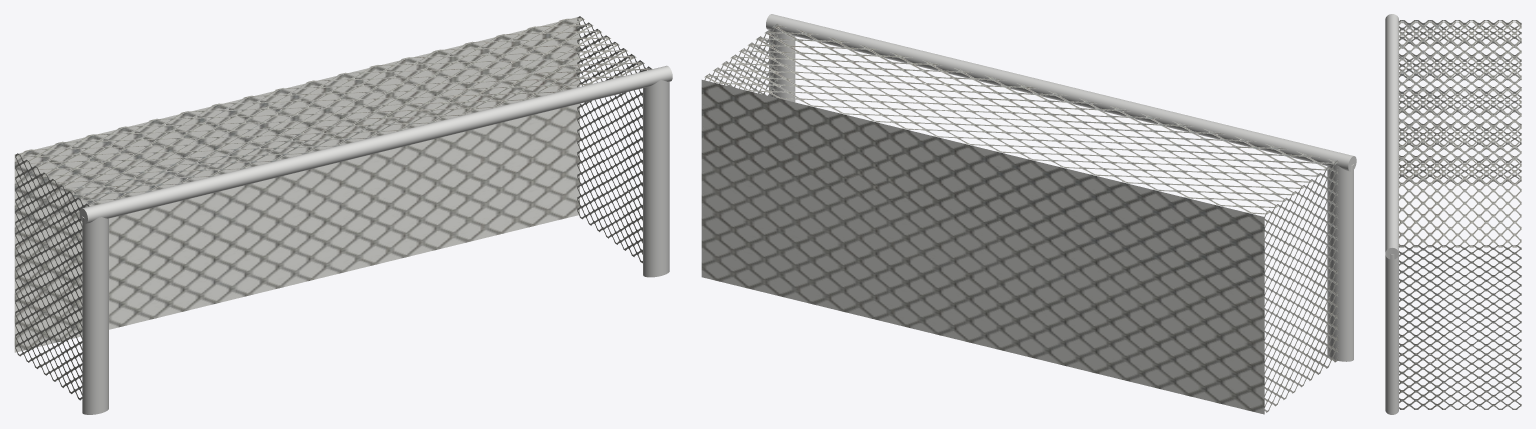
File: sf_soccer_goal.glb
3 views of the same model, side by side, from view 1: azimuth 30°, elevation 25°; view 2: azimuth 150°, elevation 25°; view 3: azimuth 270°, elevation 25° (orthographic). The views are drawn at different scales.
Parts seen in each view (by area): view 1: Object_13, Object_11, Object_9, Object_17, Object_7, Object_15, Object_5; view 2: Object_13, Object_11, Object_9, Object_17, Object_15, Object_5, Object_7; view 3: Object_11, Object_7, Object_17, Object_9, Object_5.
Boxes of the visible parts, <box> form: Object_13: <box>14,17,579,352</box>; Object_11: <box>17,18,652,206</box>; Object_9: <box>79,65,672,224</box>; Object_17: <box>15,153,89,400</box>; Object_7: <box>577,16,651,263</box>; Object_15: <box>82,216,108,414</box>; Object_5: <box>643,80,669,277</box>; Object_13: <box>701,80,1264,414</box>; Object_11: <box>704,25,1337,214</box>; Object_9: <box>766,14,1356,171</box>; Object_17: <box>1263,160,1338,412</box>; Object_15: <box>1327,164,1353,361</box>; Object_5: <box>769,28,795,102</box>; Object_7: <box>703,24,778,273</box>; Object_11: <box>1398,21,1521,247</box>; Object_7: <box>1398,245,1521,409</box>; Object_17: <box>1398,20,1521,184</box>; Object_9: <box>1385,14,1398,259</box>; Object_5: <box>1385,254,1398,414</box>.
Size of the model in its own units: 7.32 by 2.44 by 1.8.
Materials: 6 (6 with a texture image).
